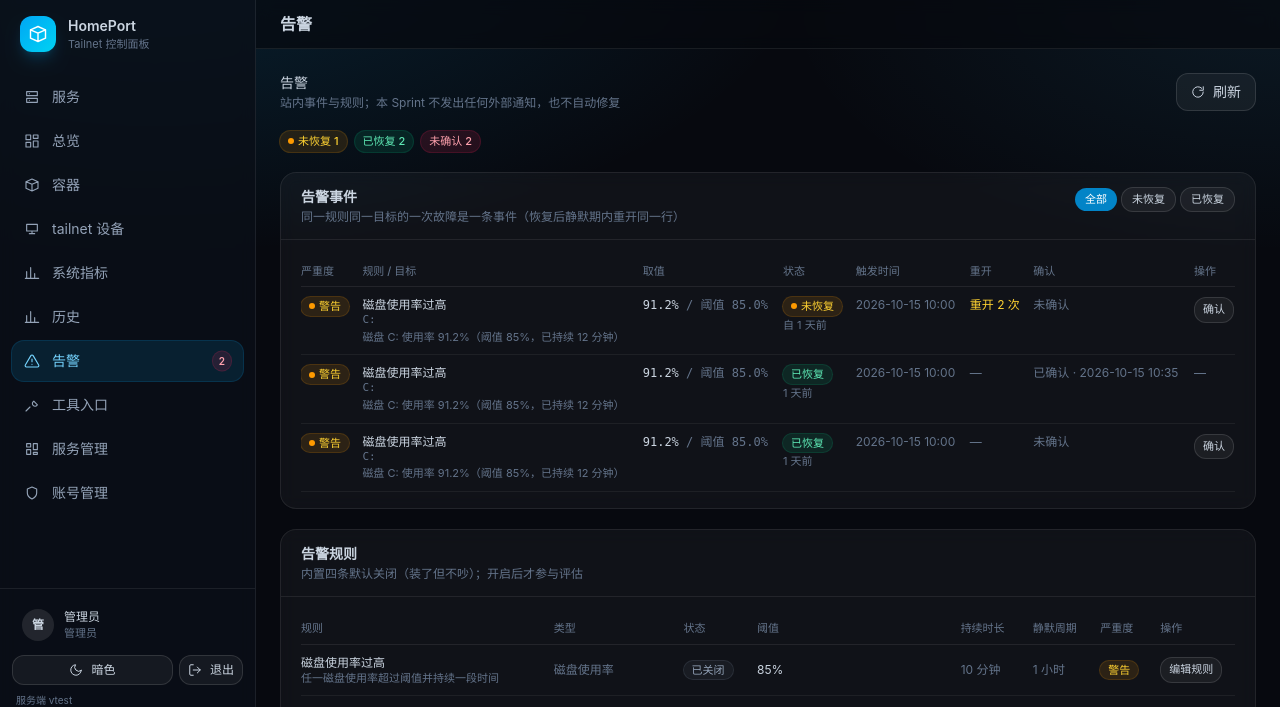
Scenario: 告警页 · 规则 PATCH 契约 › 越界阈值在本地就被拦住：显示原因、禁用保存、不发请求（不静默截断）
Click the button with aria-label "编辑规则 磁盘使用率过高" at (1191, 670), box [1160,657,1222,683]
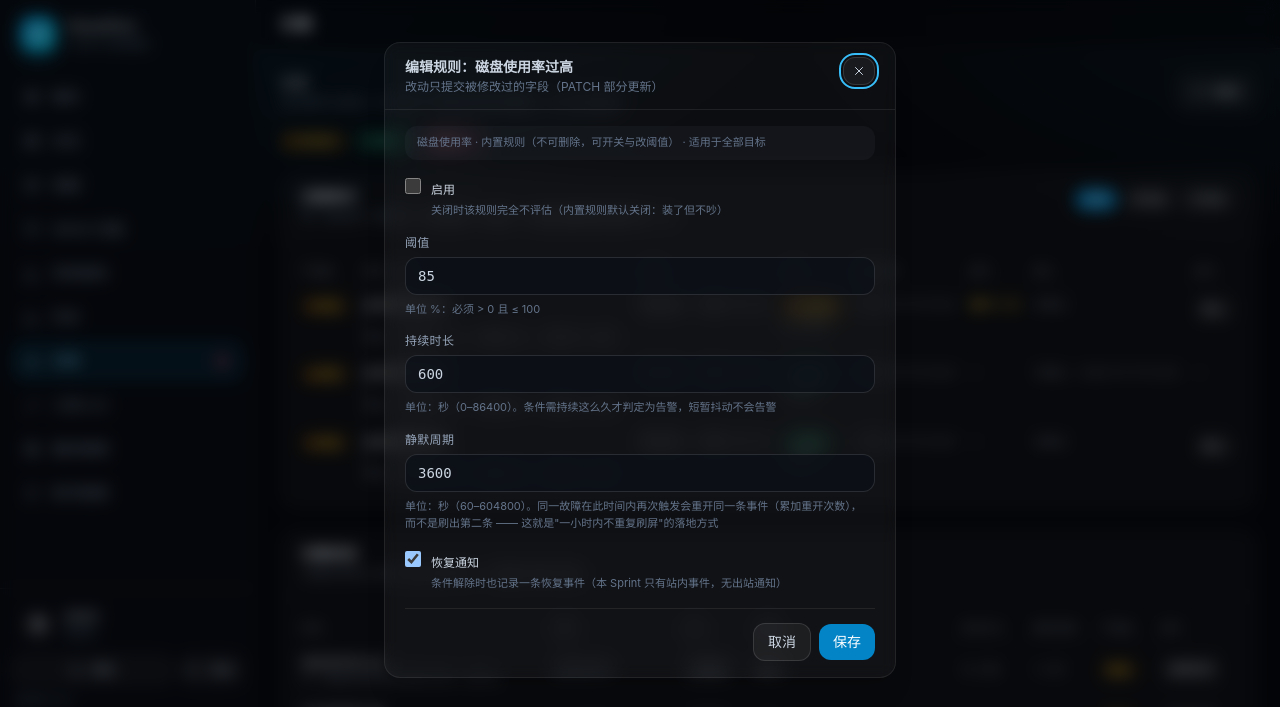
Replace the text in the number field labelled "阈值" with "150" at (640, 276), box [405,257,875,295]
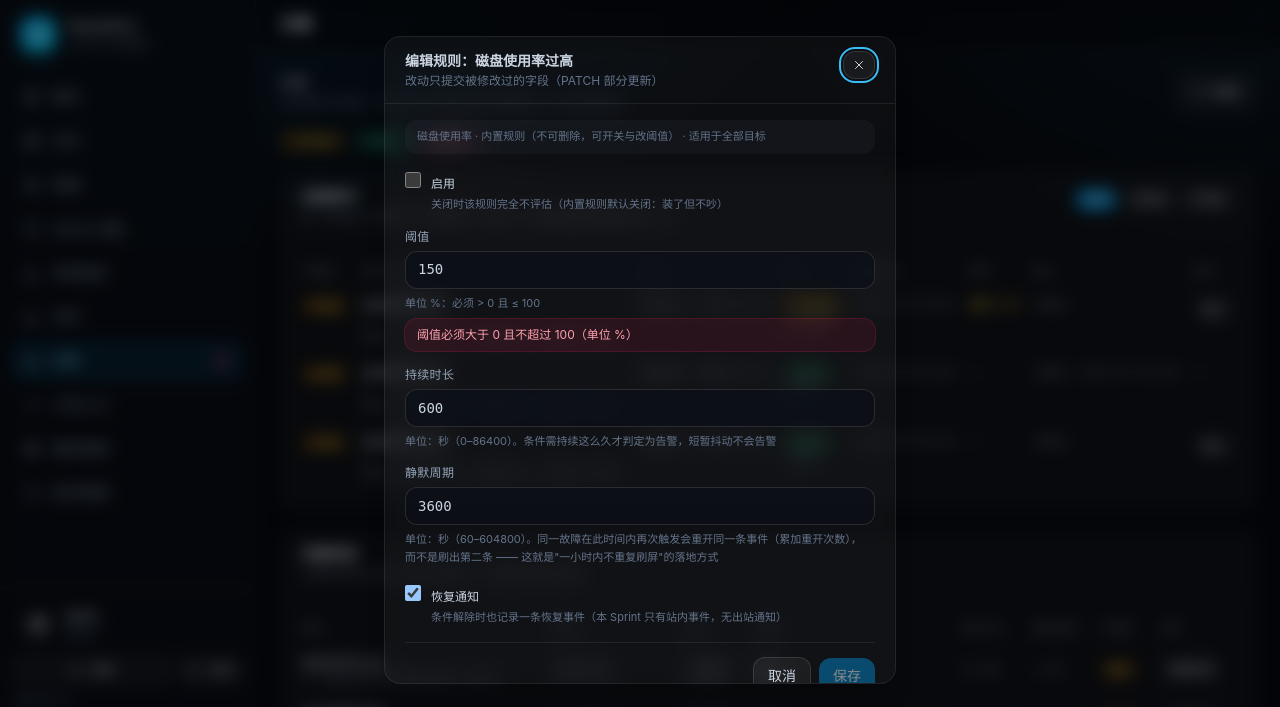
Expected: the button "保存" is disabled, [819,658,875,684]
